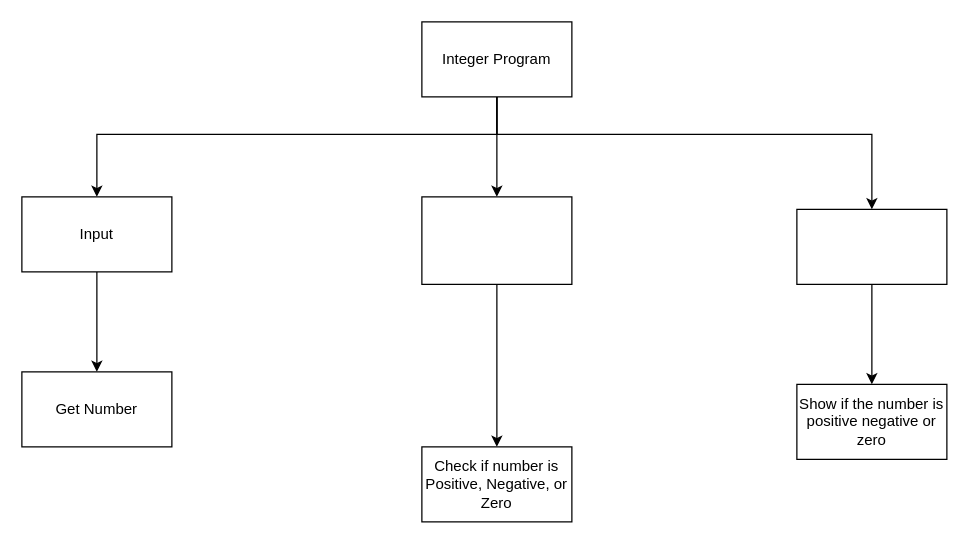
Some shapes in this 969 by 544 pixel diagram are drawn without their labels. The box of each missing label's shape, as (x1, y1, x2, y2) in pixels:
Output: (796, 208, 947, 284)
Process: (421, 196, 572, 284)
